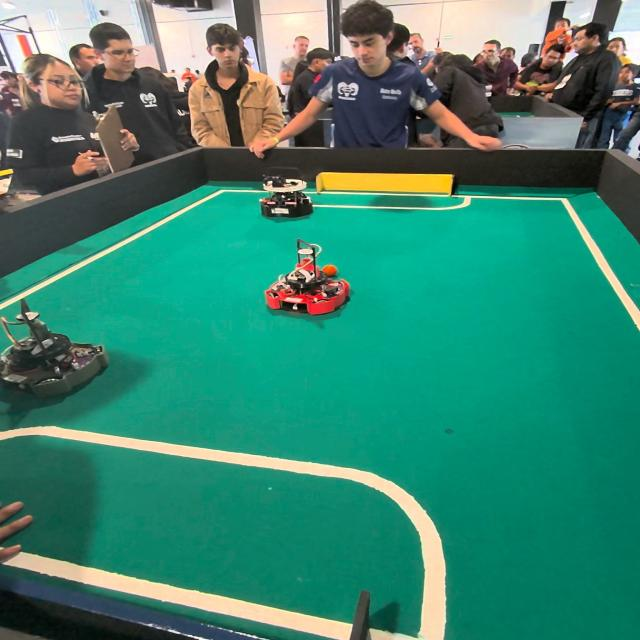Robot: (4, 319, 112, 406), (262, 251, 351, 317), (262, 170, 314, 222)
pelota: (319, 262, 357, 277)
